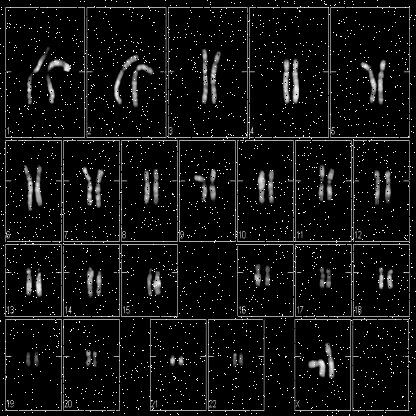1: (46, 44, 72, 108), (22, 44, 46, 108)
10: (254, 165, 267, 208), (267, 165, 280, 208)
11: (314, 158, 326, 204), (325, 158, 337, 204)
12: (371, 165, 383, 209), (384, 166, 395, 210)
13: (22, 261, 34, 301), (34, 260, 44, 300)
14: (84, 262, 96, 301), (96, 261, 107, 300)
15: (144, 264, 153, 300), (153, 263, 162, 299)
16: (263, 260, 275, 292), (252, 260, 263, 292)
17: (316, 262, 324, 292), (324, 262, 332, 292)
18: (374, 264, 386, 292), (386, 264, 398, 292)
19: (22, 344, 34, 369), (32, 344, 44, 369)
2: (132, 60, 156, 115), (108, 54, 132, 107)
20: (81, 343, 92, 370), (92, 344, 102, 372)
21: (168, 348, 178, 370), (178, 348, 186, 370)
22: (229, 348, 238, 374), (238, 348, 246, 374)
3: (197, 45, 209, 107), (209, 44, 220, 106)
4: (280, 56, 291, 107), (292, 56, 303, 107)
5: (376, 56, 395, 104), (359, 57, 377, 106)
6: (21, 159, 34, 213), (34, 158, 46, 212)
7: (80, 162, 94, 210), (93, 162, 107, 210)
8: (138, 165, 152, 209), (152, 165, 166, 209)
9: (208, 166, 223, 204), (193, 168, 208, 205)
X: (305, 350, 326, 378), (324, 339, 338, 377)
